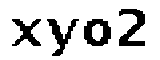2: (115, 6, 150, 50)
o: (80, 14, 112, 50)
x: (9, 16, 43, 49)
y: (45, 16, 80, 60)
